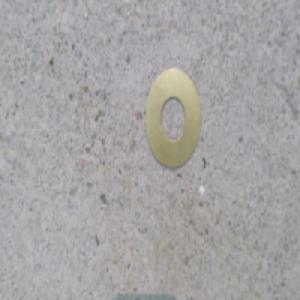Washer: (144, 65, 202, 172)
